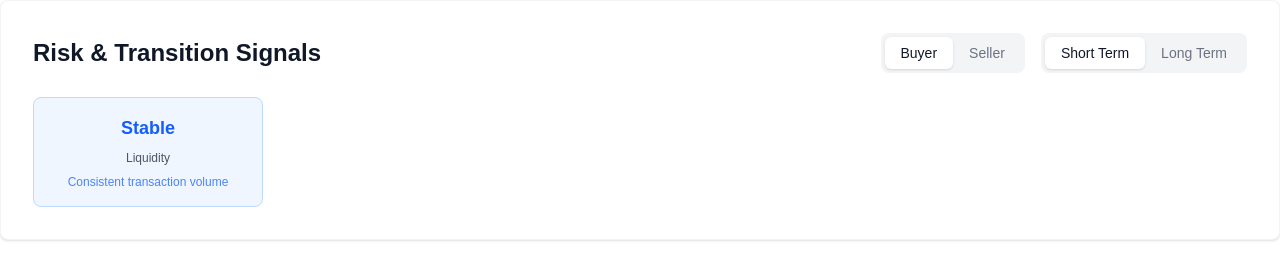
Test: SignalPanel › filters by perspective (Seller)
Switch to Seller
What coordinates should you click on to do the following:
click the button "Seller"
I would click on:
 (987, 53)
Its box is [953,37,1021,69].
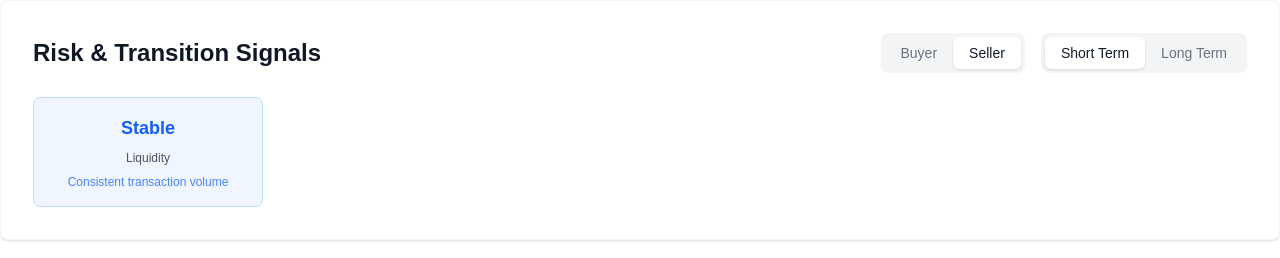
What coordinates should you click on to do the following:
click the button "Long Term"
I would click on:
 (1194, 53)
Its box is [1145,37,1243,69].
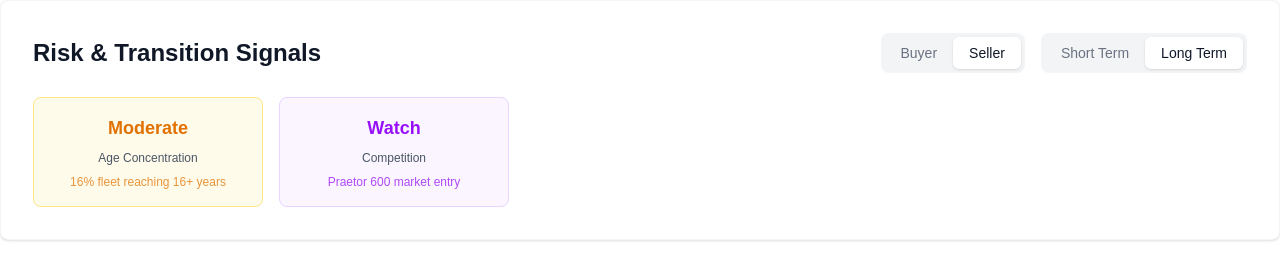
Now the text "Age Concentration" is shown, box [98,151,198,165]
